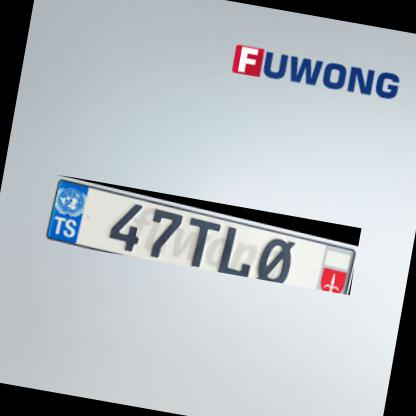Plates: (43, 174, 362, 296)
